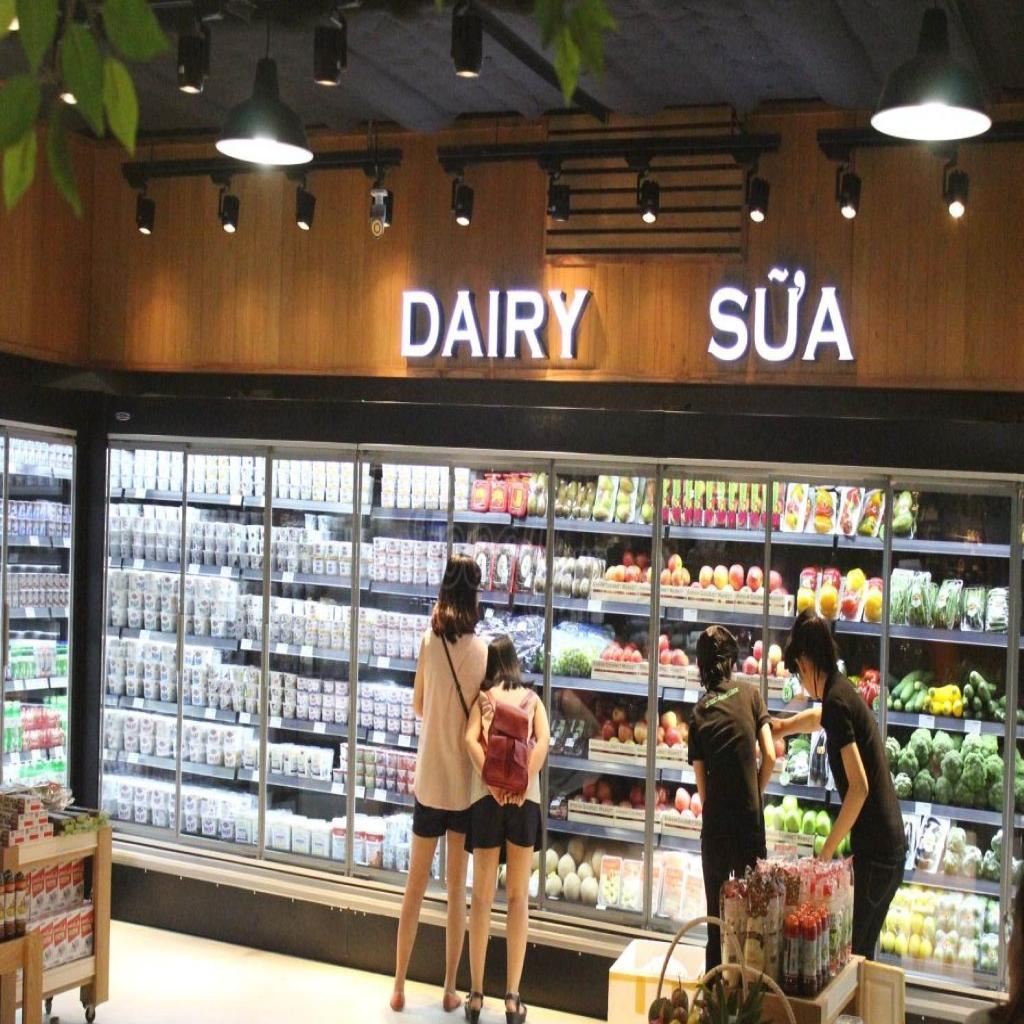text: (400, 289, 590, 360)
